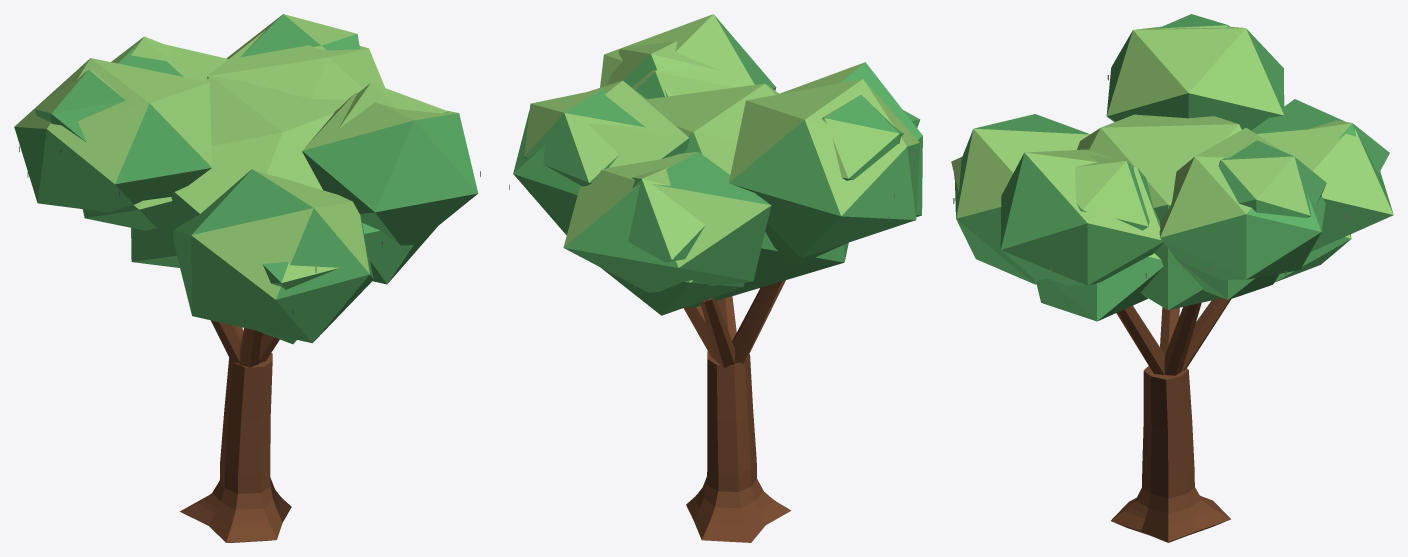
Rendered from apple_tree_picked.glb.
3 views of the same model, side by side, from view 1: azimuth 30°, elevation 25°; view 2: azimuth 150°, elevation 25°; view 3: azimuth 270°, elevation 25° (orthographic). The views are drawn at different scales.
Visible parts, largest first — view 1: apple_tree_picked.001; view 2: apple_tree_picked.001; view 3: apple_tree_picked.001.
Part boxes in pixels (x1=…): apple_tree_picked.001: x1=14, y1=14, x2=480, y2=542; apple_tree_picked.001: x1=509, y1=14, x2=922, y2=542; apple_tree_picked.001: x1=951, y1=14, x2=1393, y2=542.
Bounding box in the file's own units: 4.34 × 5.2 × 4.68.
